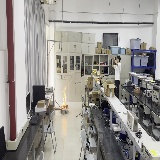fire: (62, 86, 67, 109)
